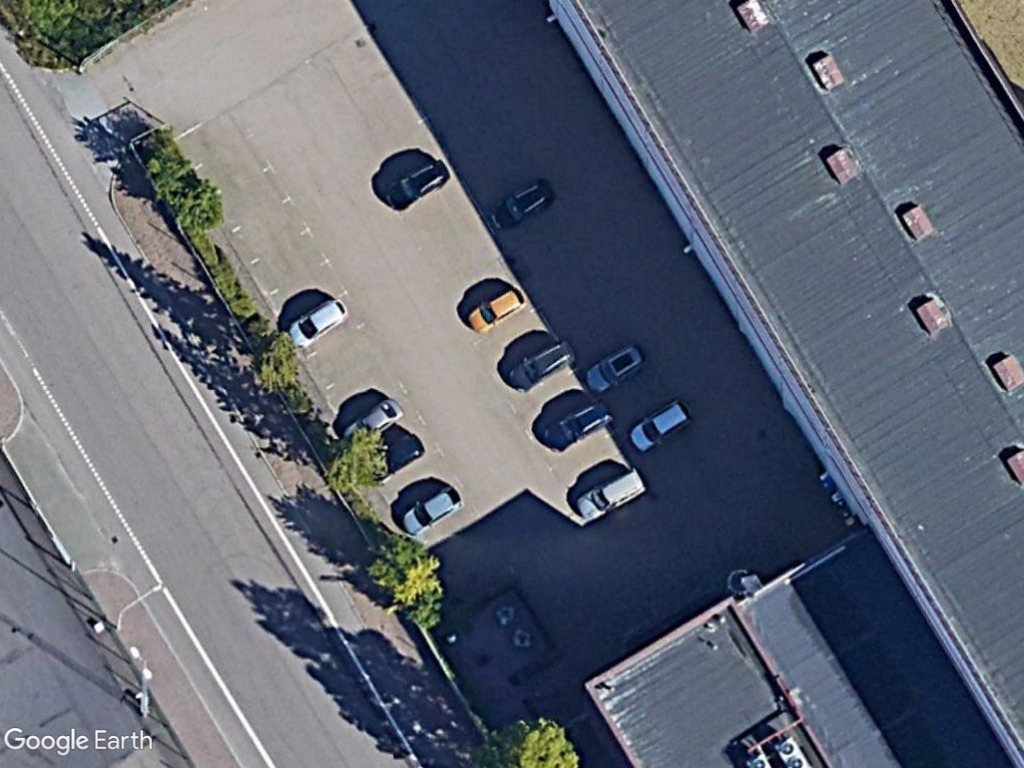car: (502, 334, 580, 398), (575, 461, 653, 523), (623, 394, 696, 457), (543, 397, 614, 455), (486, 178, 558, 234), (383, 155, 451, 213), (399, 482, 466, 539), (584, 338, 649, 394), (284, 296, 351, 350), (466, 284, 532, 336)
